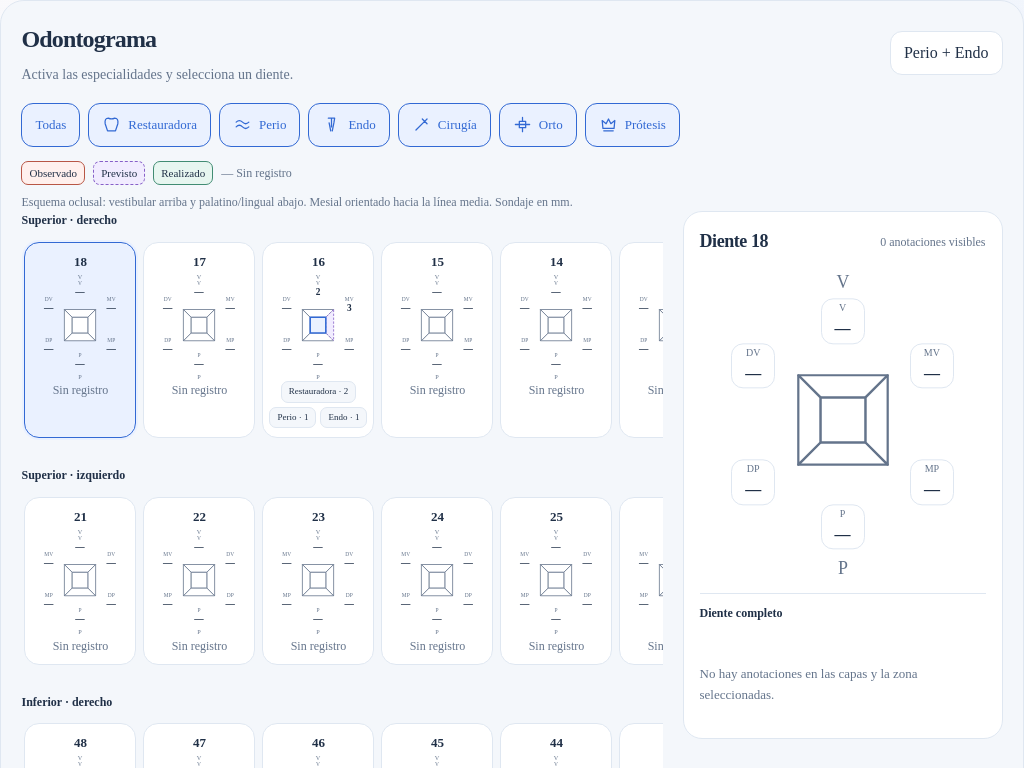
it: OdontogramVisual › hides layers, offers presets and keeps at least the chosen ones
Click the button with aria-label "Diente 16, 4 anotaciones visibles, con sondaje registrado".
click(318, 340)  # box x1=262 y1=242 x2=374 y2=438
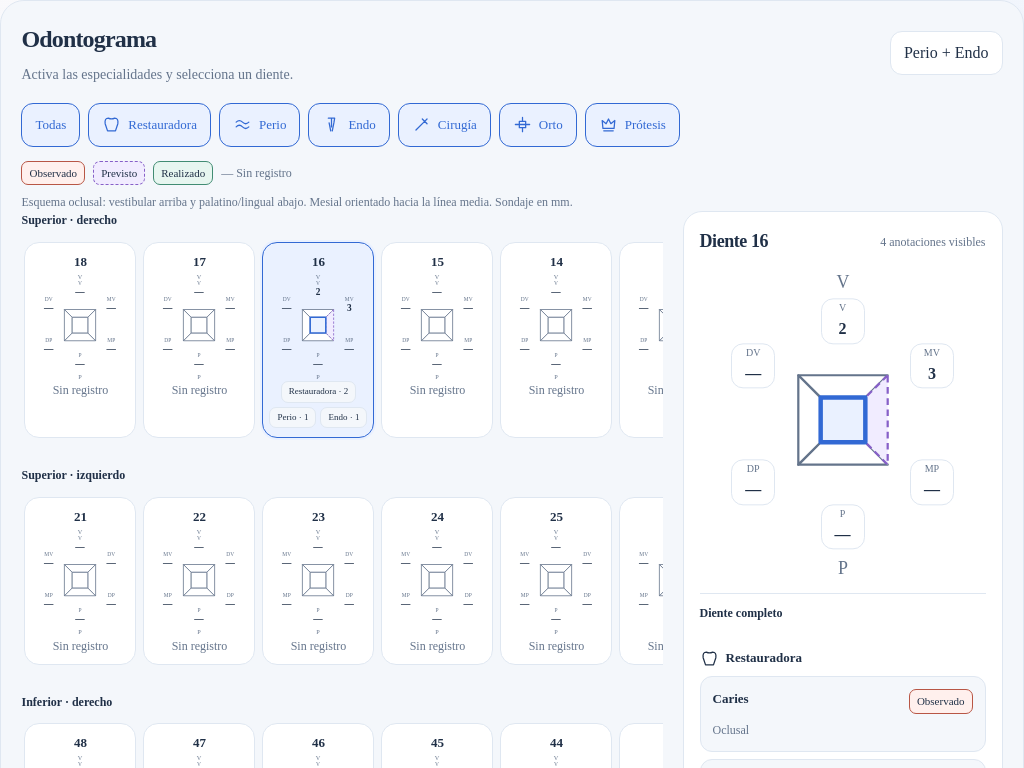
Click the button "Restauradora".
click(150, 125)  # box x1=88 y1=103 x2=211 y2=147
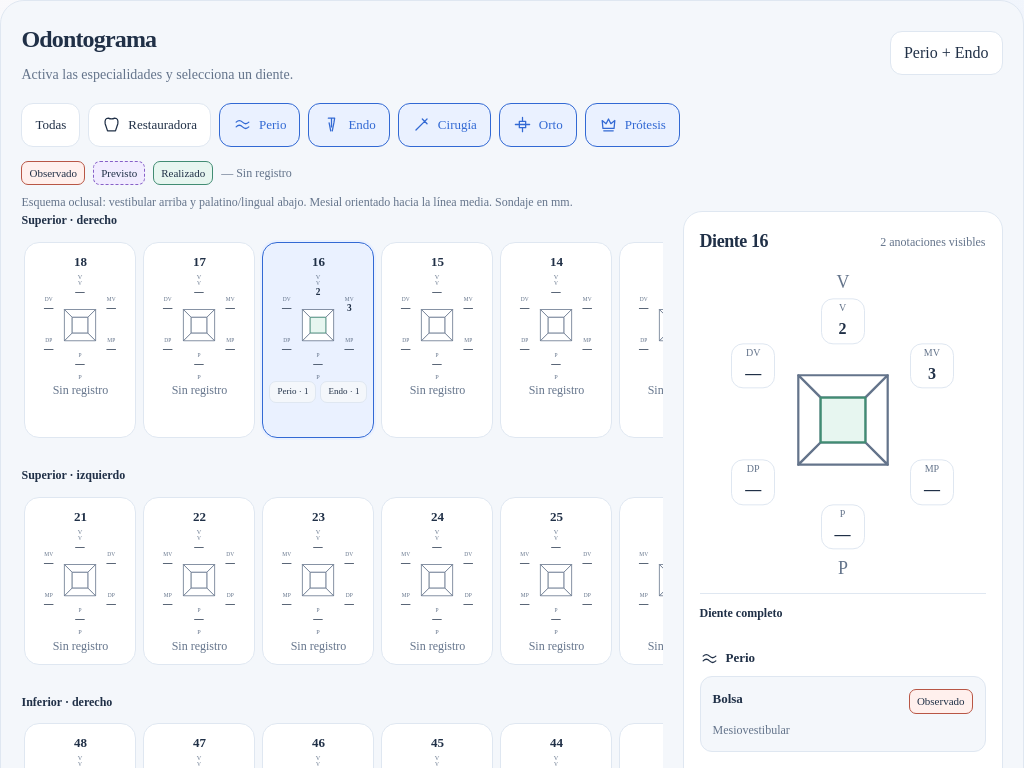
Expected: the text "Caries" is gone
Click the button "Perio + Endo".
click(946, 53)  # box x1=890 y1=31 x2=1003 y2=75
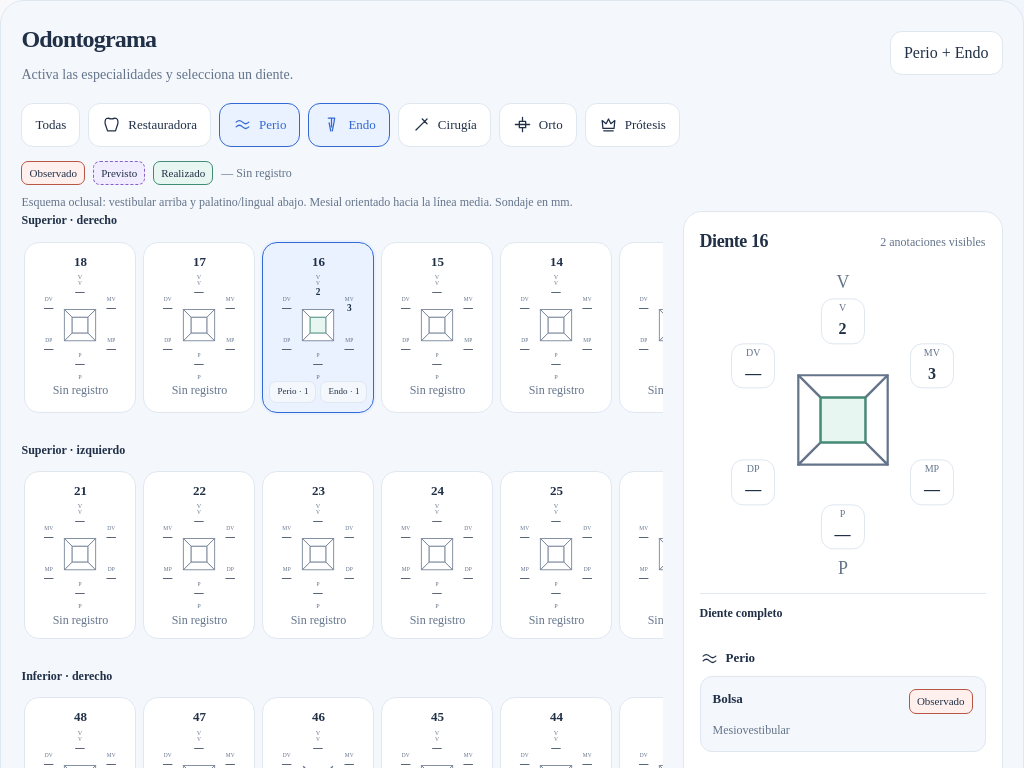
Expected: the button "Orto" is not pressed, x1=499 y1=103 x2=577 y2=147
Click the button "Perio".
click(260, 125)  # box x1=219 y1=103 x2=300 y2=147
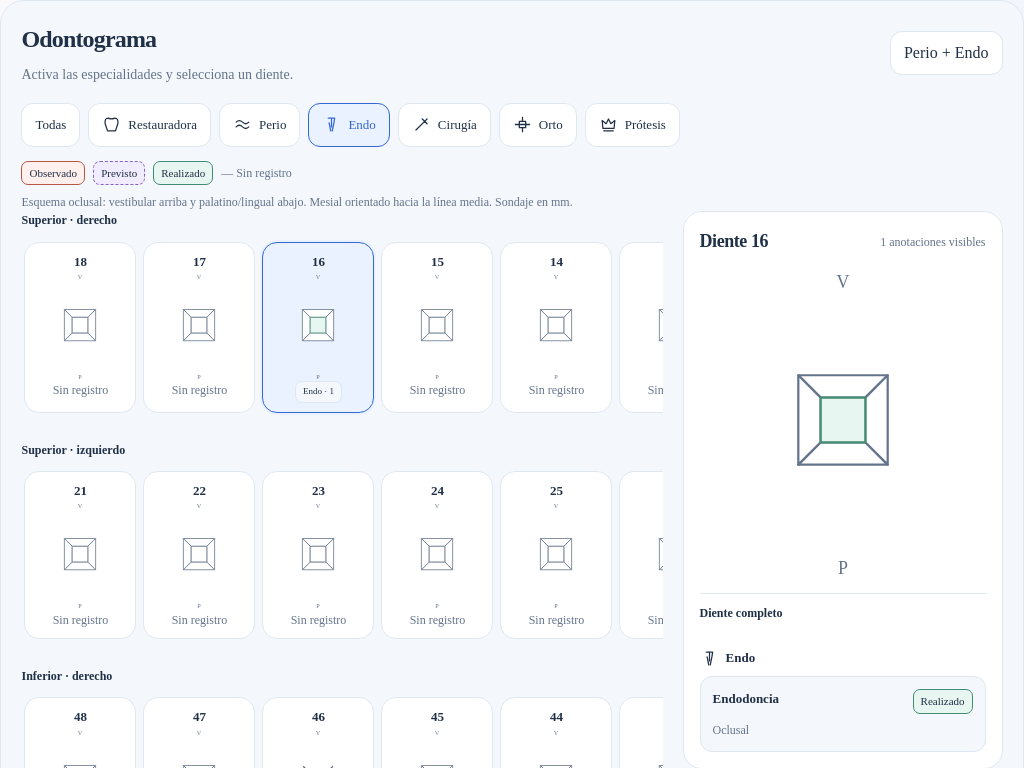
Expected: the text "Mesiovestibular" is gone
Click the button "Todas".
click(51, 125)  # box x1=22 y1=103 x2=80 y2=147
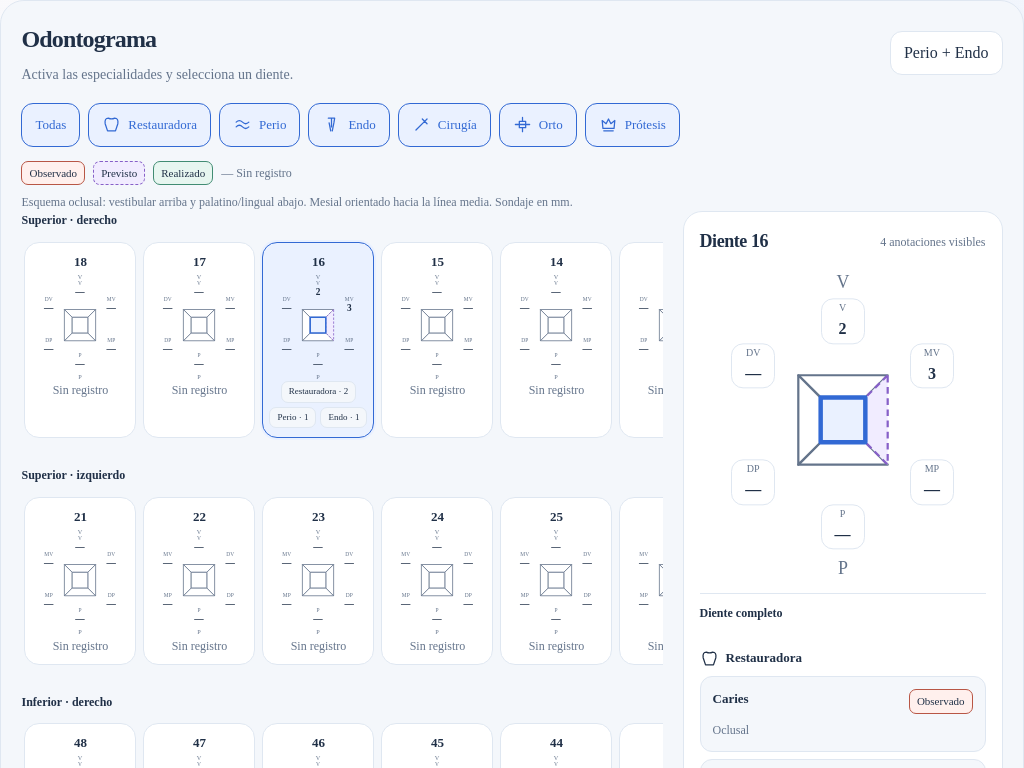
Expected: the text "Caries" is shown, x1=712 y1=689 x2=749 y2=710
